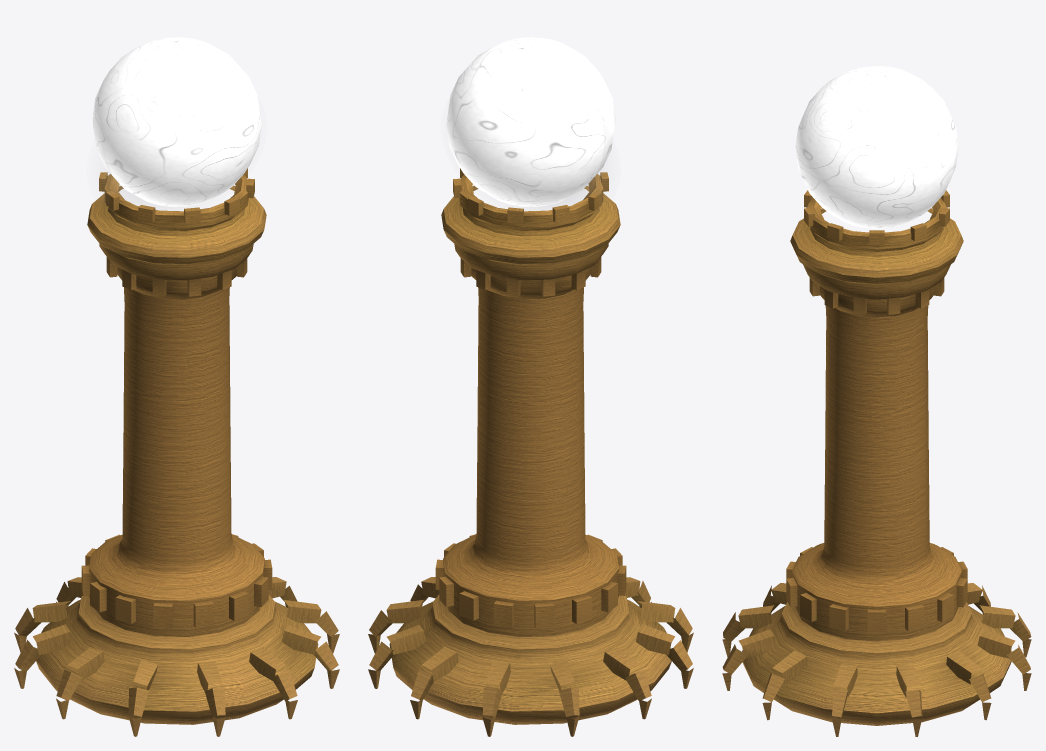
The model's file is mm7_deco_dec66.glb.
3 renders of one model, left to right at view 1: azimuth 30°, elevation 25°; view 2: azimuth 150°, elevation 25°; view 3: azimuth 270°, elevation 25°, orthographic. The views are drawn at different scales.
Visible parts, largest first — view 1: Pedestal; view 2: Pedestal; view 3: Pedestal.
Boxes of the visible parts, x1,y1,x2,y2 form: Pedestal: (14,37,339,736); Pedestal: (368,37,693,736); Pedestal: (722,66,1031,736).
Size of the model in its own units: 1.13 by 2.46 by 1.13.
Materials: 3 (3 with a texture image).
